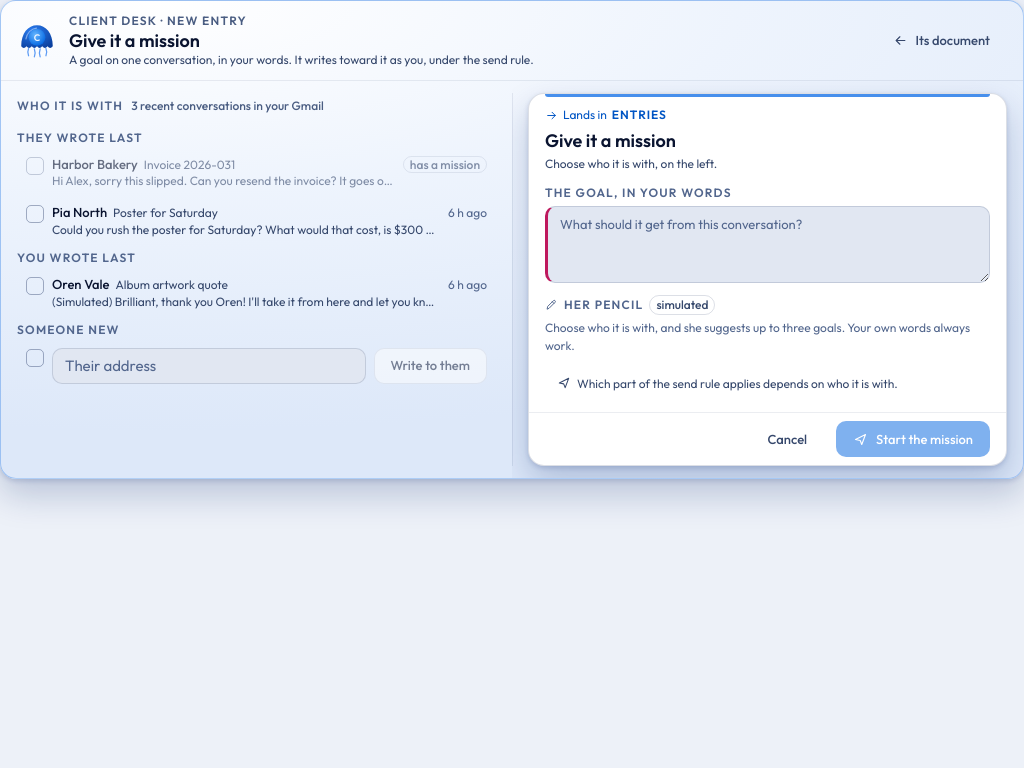
the new entry › writes to someone new as a first message, and keeps the daemon's refusal on the slip
The width and height of the screenshot is (1024, 768).
Type "kai@moss" into the field labelled "Their address" at (209, 366), box 52,348 -> 366,384
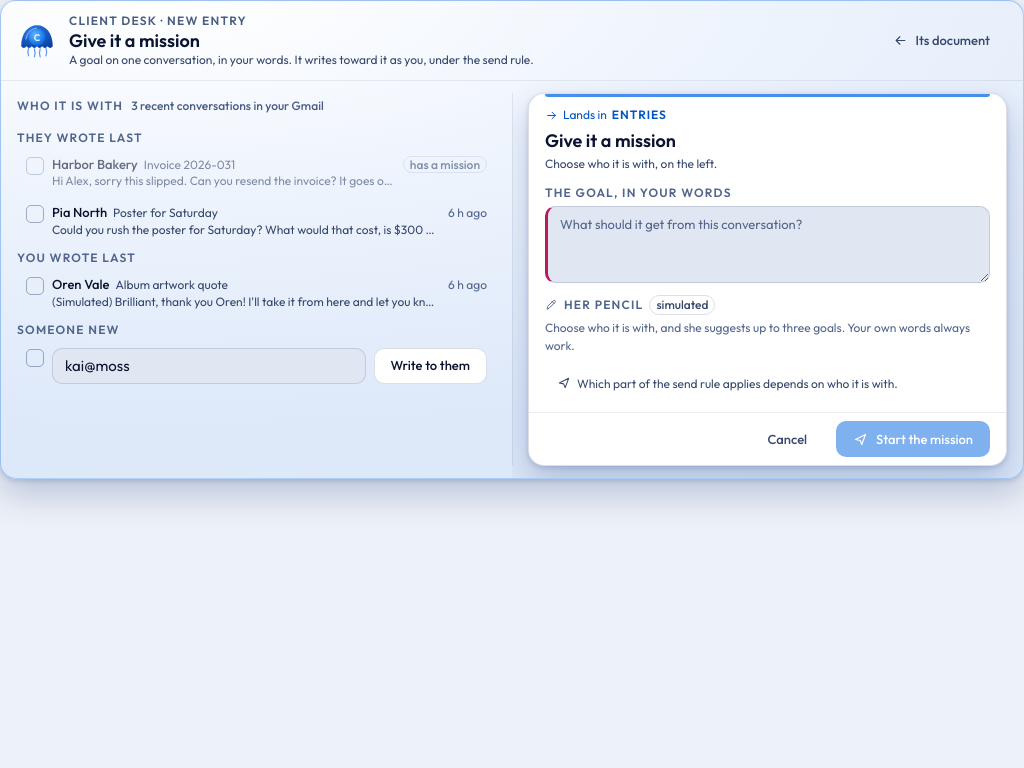
Click the button "Write to them" at (430, 366), box 374,348 -> 487,384
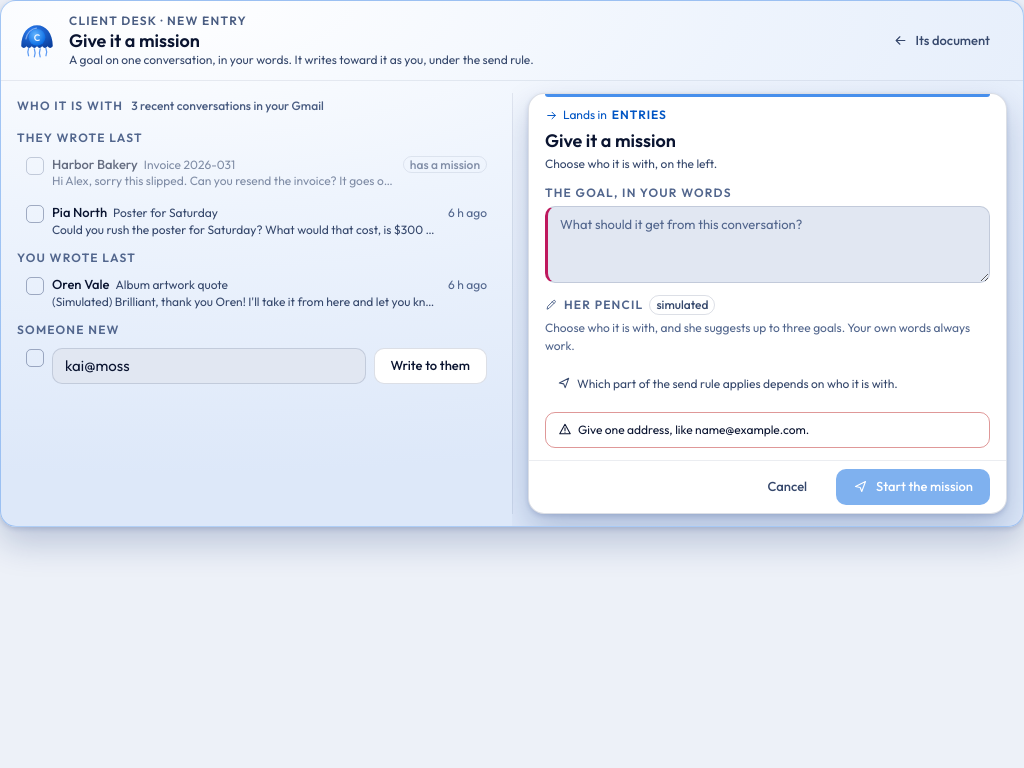
expect the message shows "one address": met, box 578,422 -> 809,437
Replace the text in the field named "Their address" with "kai@moss.example" at (209, 366), box 52,348 -> 366,384
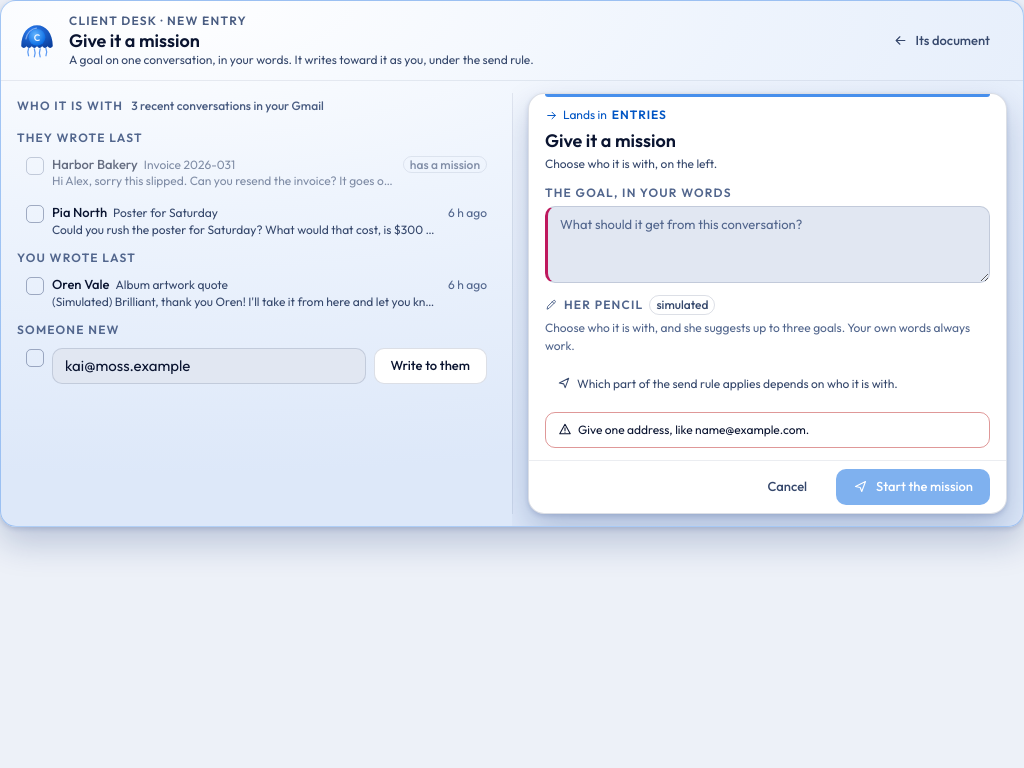
Click the button "Write to them" at (430, 366), box 374,348 -> 487,384
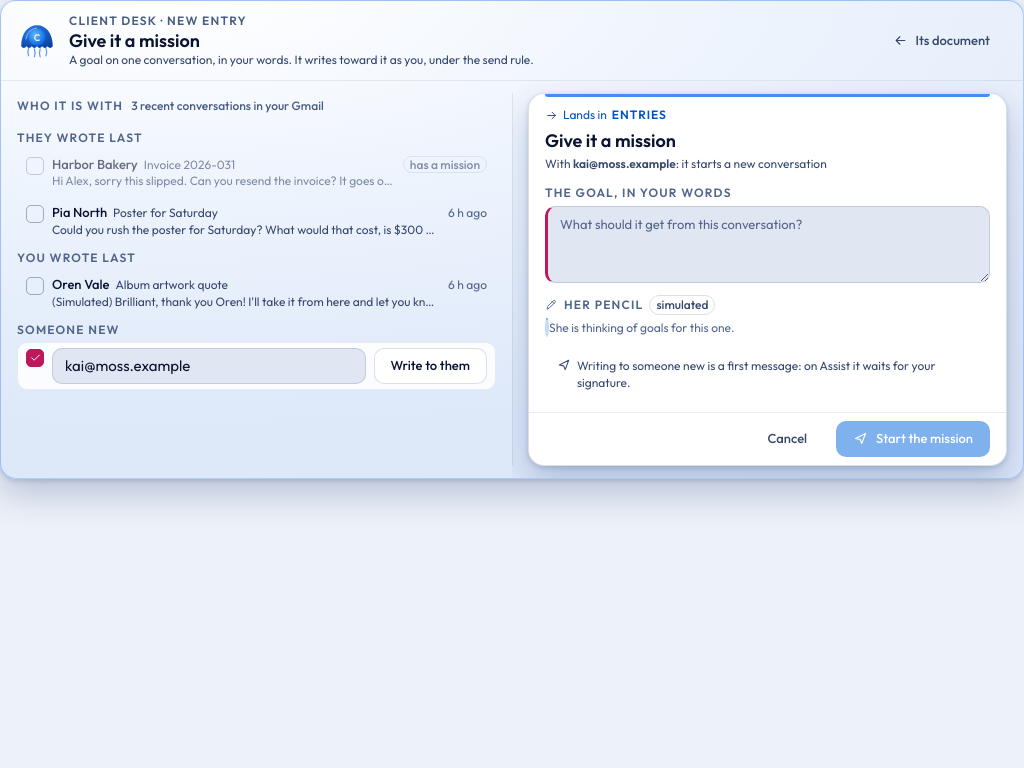
expect the text "a first message: on Assist it waits for your signature" is shown: met, box 577,358 -> 935,390
Type "Ask Kai for a call" into the text box labelled "The goal, in your words" at (768, 245), box 545,206 -> 990,283
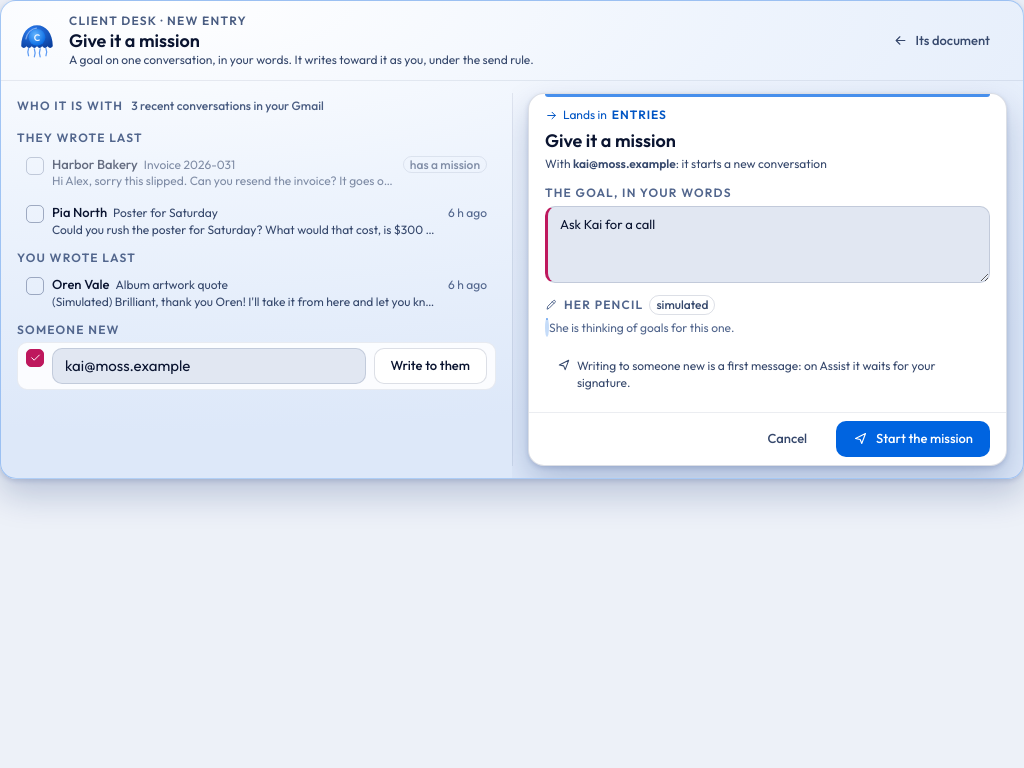
Click the button "Start the mission" at (913, 439), box 836,421 -> 990,457
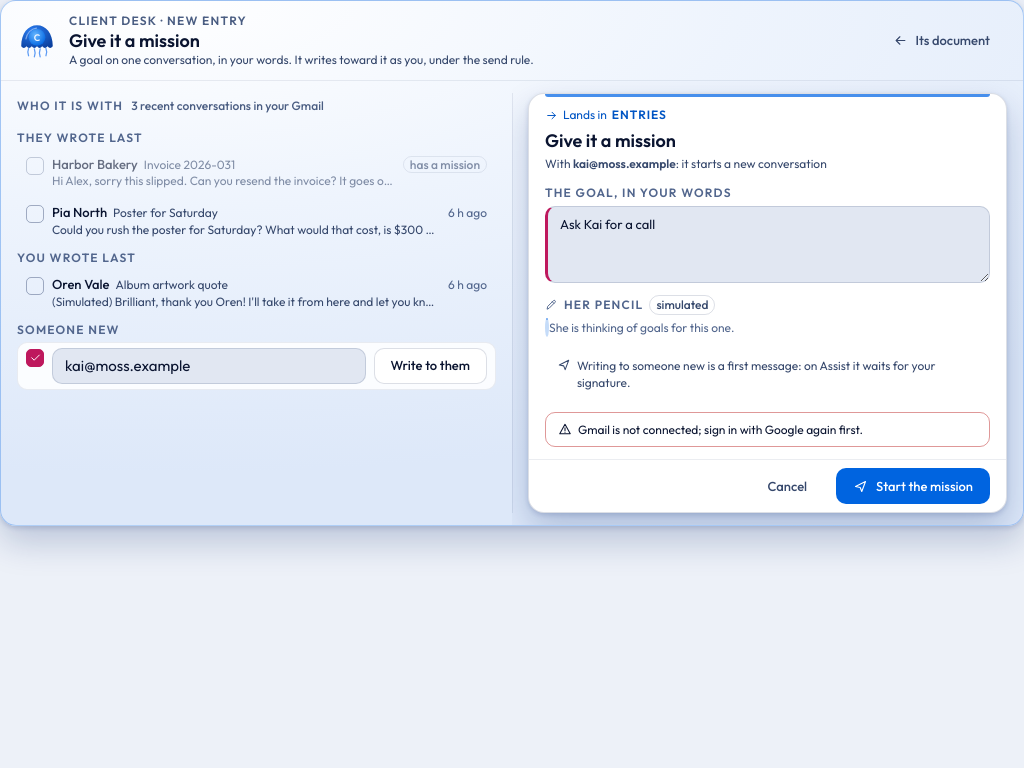
expect the message "Gmail is not connected; sign in with Google again first." is shown: met, box 545,412 -> 990,447
